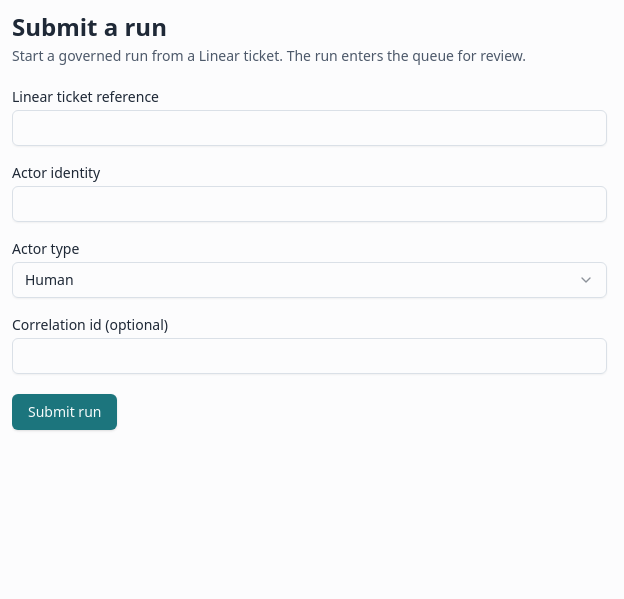
Test: SubmitRunForm — failure surface via ProblemDetails (AC7/AC8c) › renders the IDEMPOTENCY_KEY_CONFLICT error surface
This screenshot has width=624, height=599.
Type "LIN-2210" into the field labelled "Linear ticket reference".
click(309, 128); type("LIN-2210")  # box left=12, top=110, right=607, bottom=146
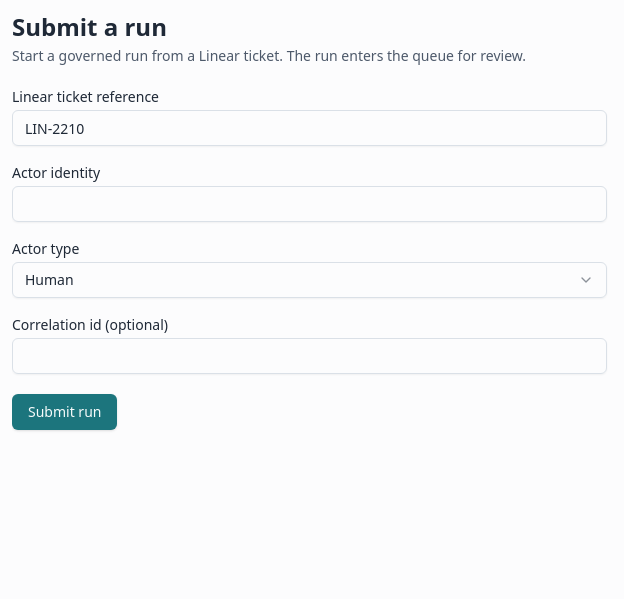
Type "alex@example.com" into the field labelled "Actor identity".
click(309, 204); type("alex@example.com")  # box left=12, top=186, right=607, bottom=222
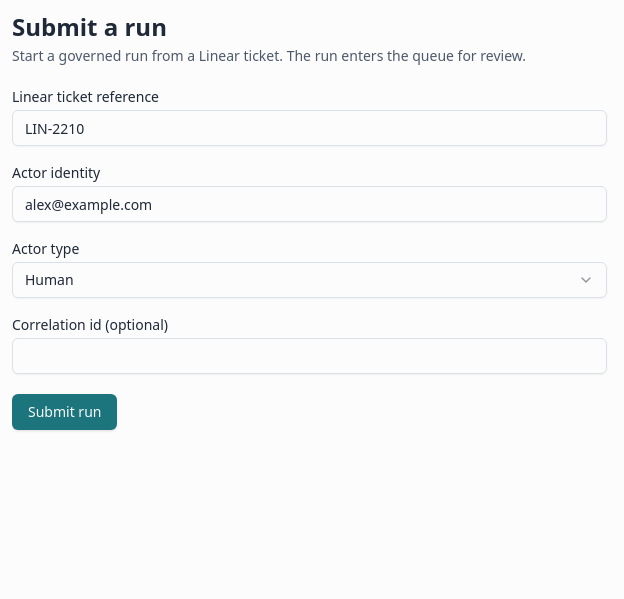
Click the button with test id "submit-run-button".
click(65, 412)  # box left=12, top=394, right=117, bottom=430
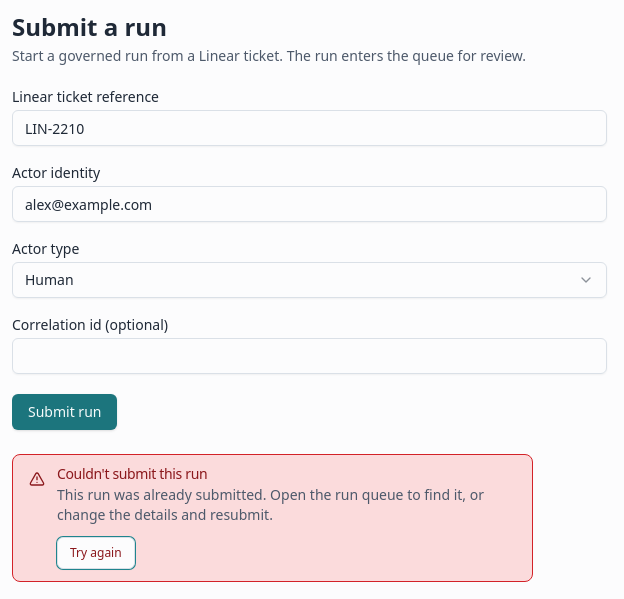
Expected: the element with test id "submit-error" shows "already submitted", left=57, top=485, right=484, bottom=524
